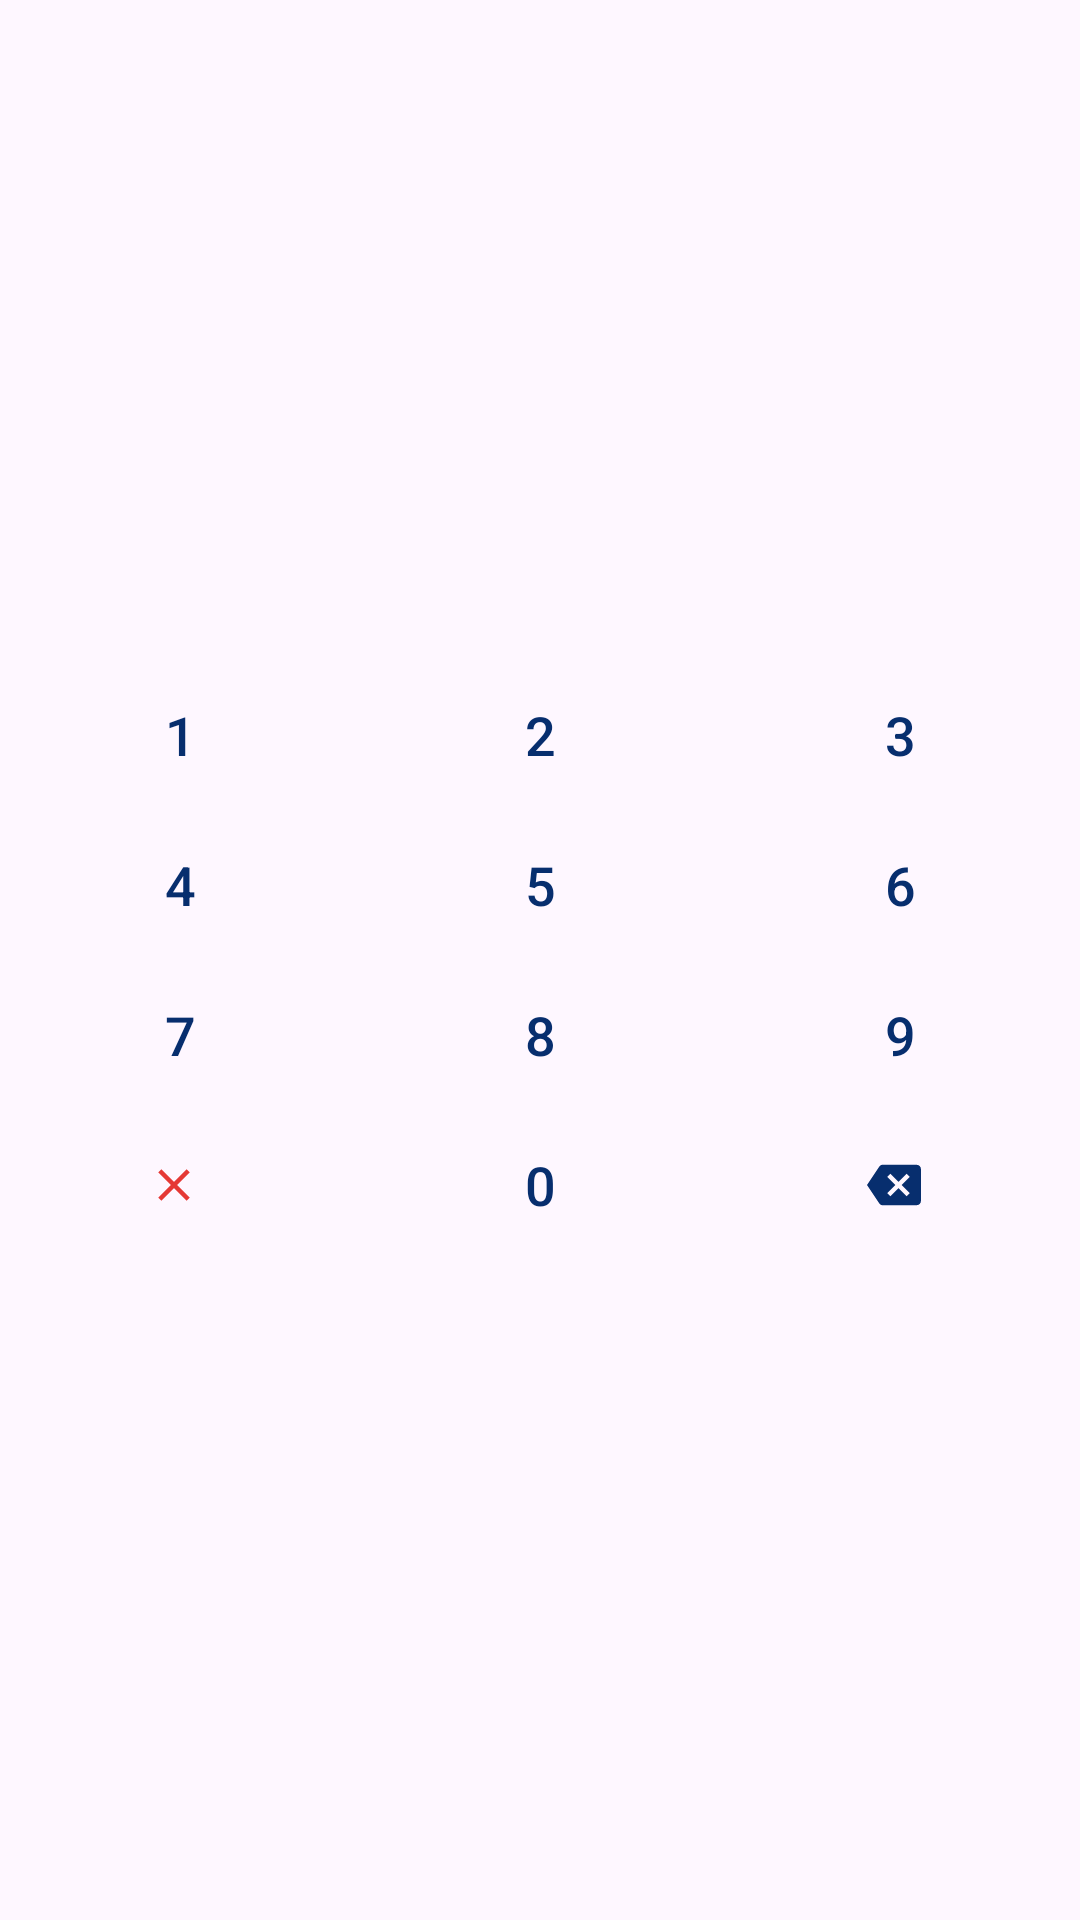

Named icons in this screenshot (1080 x 1920) and their bounding boxes, (x1, y1, x2, y2):
backspace: (867, 1164, 921, 1206)
clear: (158, 1169, 190, 1201)
